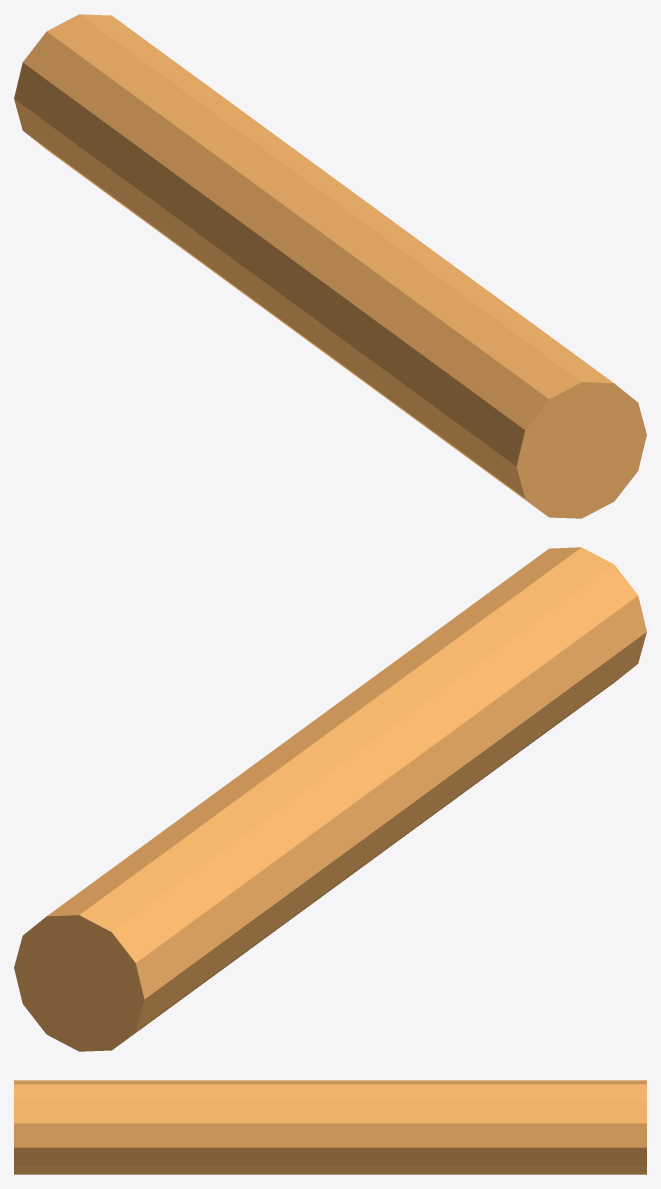
Rendered from SM_gas_pipeline_05.glb.
3 views of the same model, one above another, from view 1: azimuth 30°, elevation 25°; view 2: azimuth 150°, elevation 25°; view 3: azimuth 270°, elevation 25° (orthographic). The views are drawn at different scales.
Parts seen in each view (by area): view 1: SM_gas_pipeline_05; view 2: SM_gas_pipeline_05; view 3: SM_gas_pipeline_05.
Boxes of the visible parts, bbox=[...] form: SM_gas_pipeline_05: bbox=[14, 14, 646, 518]; SM_gas_pipeline_05: bbox=[14, 547, 646, 1051]; SM_gas_pipeline_05: bbox=[14, 1080, 646, 1174].
Size of the model in its own units: 0.2998 by 0.2998 by 2.
1 material, 1 textured.
